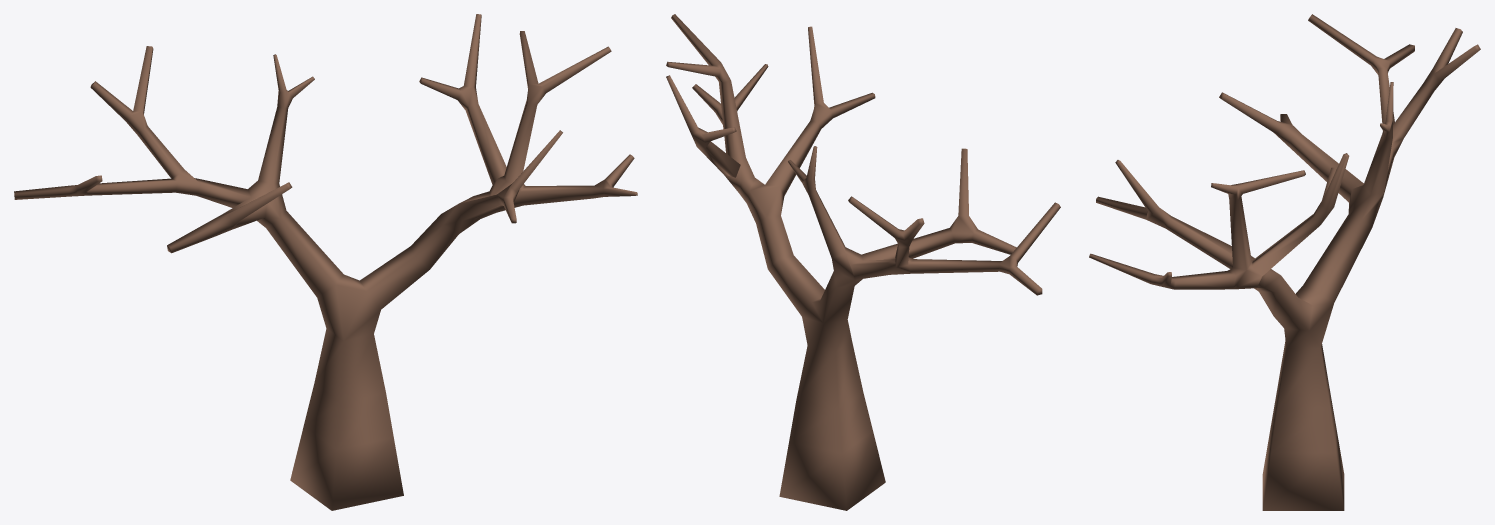
File: Acacia_Dry_Brown_1.fbx
3 renders of one model, left to right at view 1: azimuth 30°, elevation 25°; view 2: azimuth 150°, elevation 25°; view 3: azimuth 270°, elevation 25°, orthographic. The views are drawn at different scales.
Parts seen in each view (by area): view 1: Acacia_Dry_Brown_1; view 2: Acacia_Dry_Brown_1; view 3: Acacia_Dry_Brown_1.
Boxes of the visible parts, x1,y1,x2,y2 form: Acacia_Dry_Brown_1: [14, 14, 637, 510]; Acacia_Dry_Brown_1: [666, 14, 1060, 510]; Acacia_Dry_Brown_1: [1089, 14, 1480, 510].
Bounding box in the file's own units: 659 × 536 × 460.
